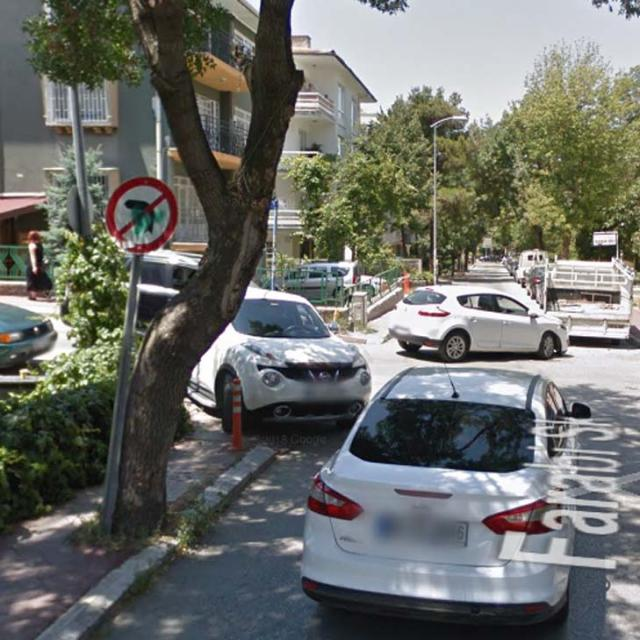soladonulmez: (108, 176, 179, 255)
